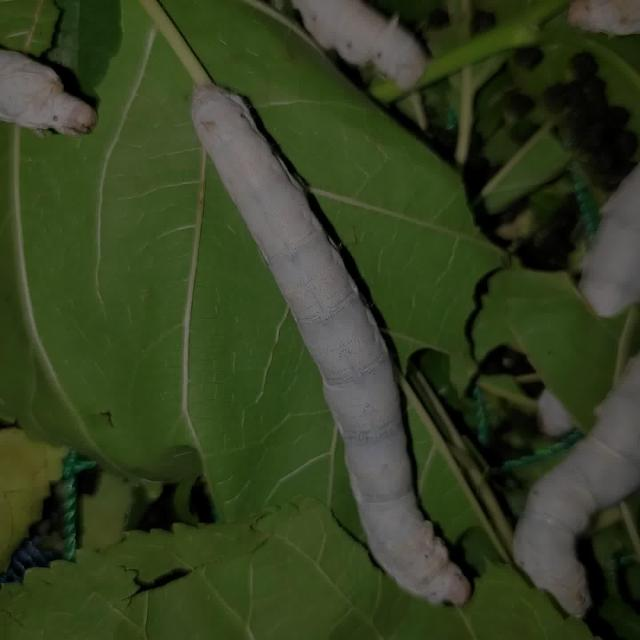Healthy: (162, 64, 509, 631)
